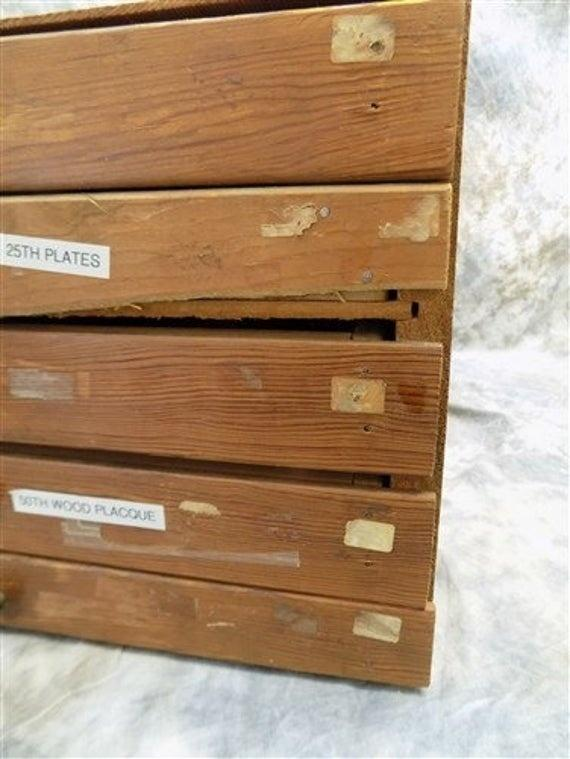cabinet_door: (0, 17, 454, 184), (4, 329, 440, 457), (4, 187, 450, 308), (3, 470, 435, 590), (4, 589, 430, 669)
